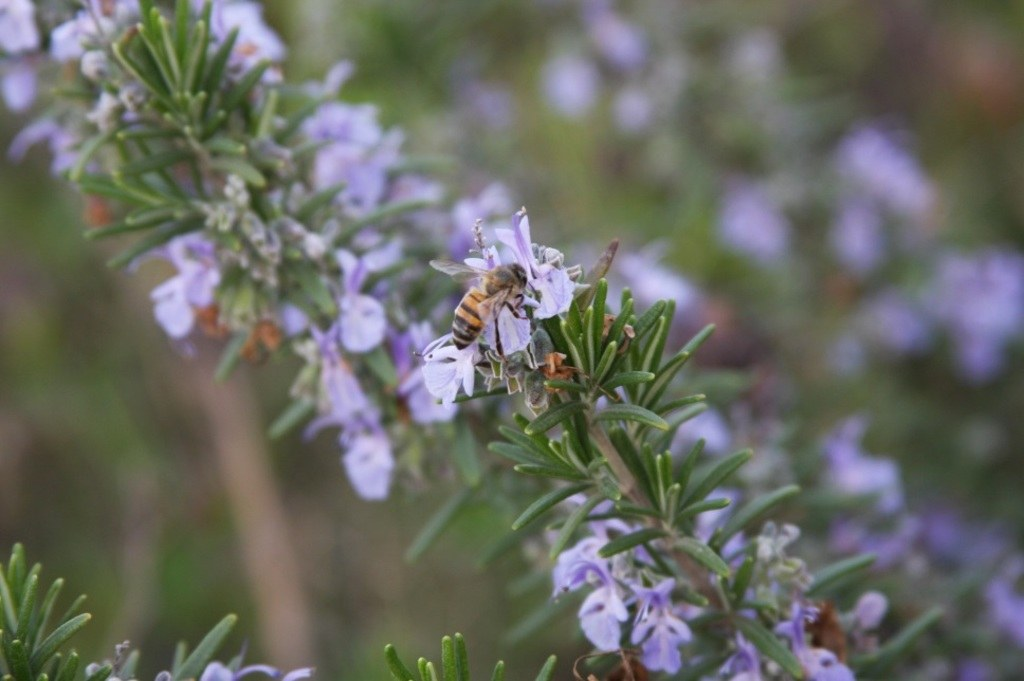bee: (425, 218, 584, 384)
insect: (0, 0, 909, 680), (406, 0, 1023, 680)
